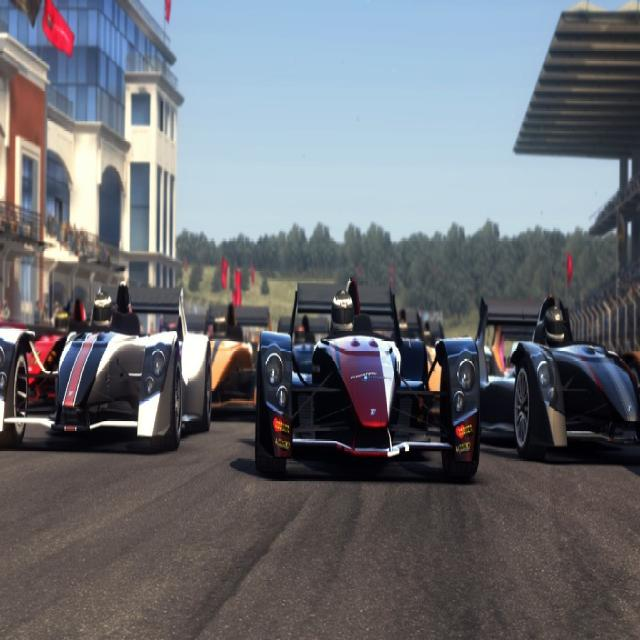car: (251, 275, 476, 473), (0, 256, 214, 441), (476, 287, 639, 457), (207, 324, 253, 410)
